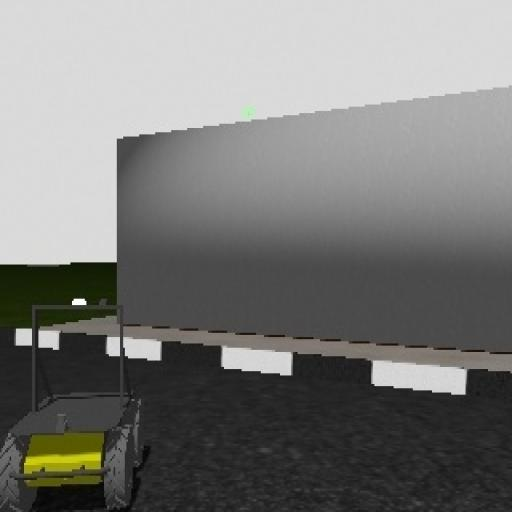huskya200: (0, 280, 148, 512)
